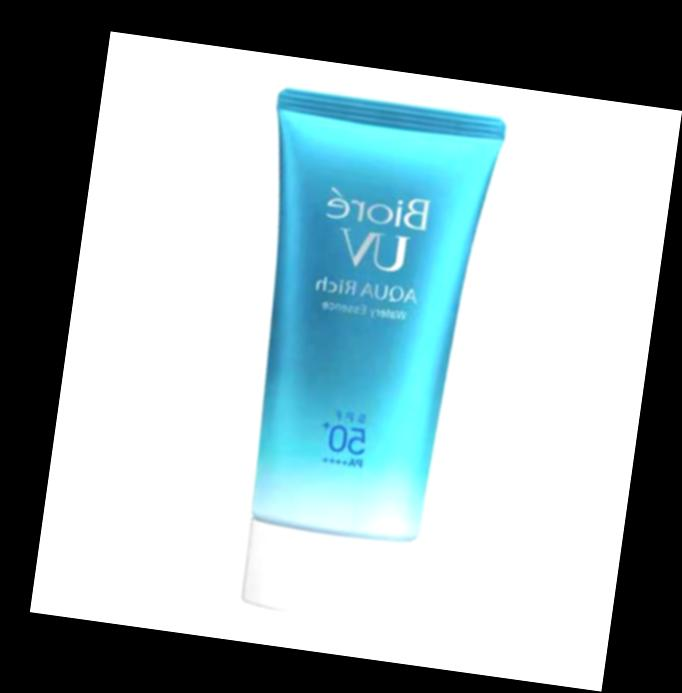cosmetic: (206, 84, 510, 634)
